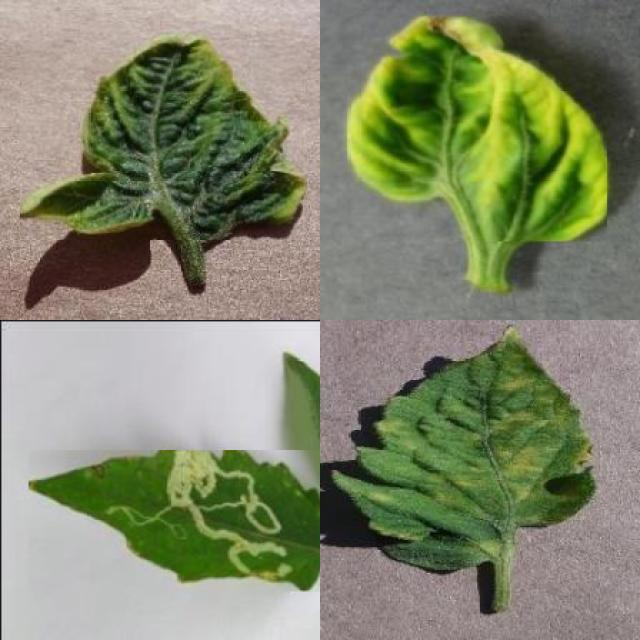Leaf Miner: (29, 450, 320, 591)
Leaf Mold: (330, 321, 596, 573)
Yellow Leaf Curl Virus: (20, 35, 307, 241), (347, 16, 607, 241)
